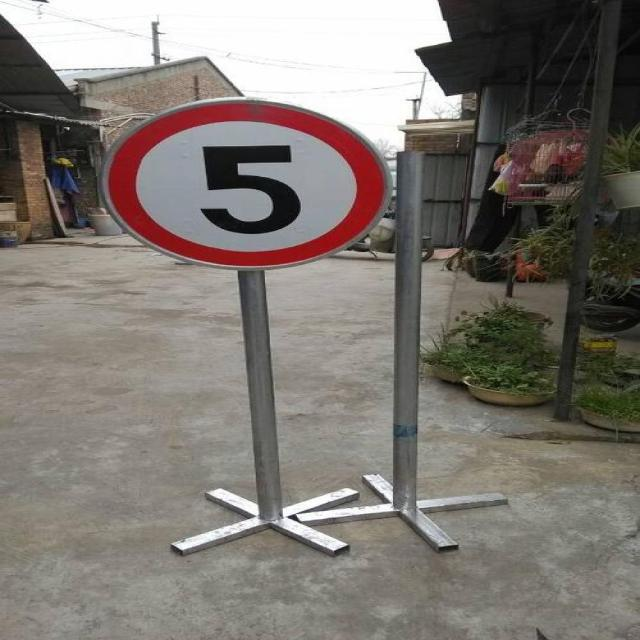speed limit 10: (103, 103, 386, 271)
